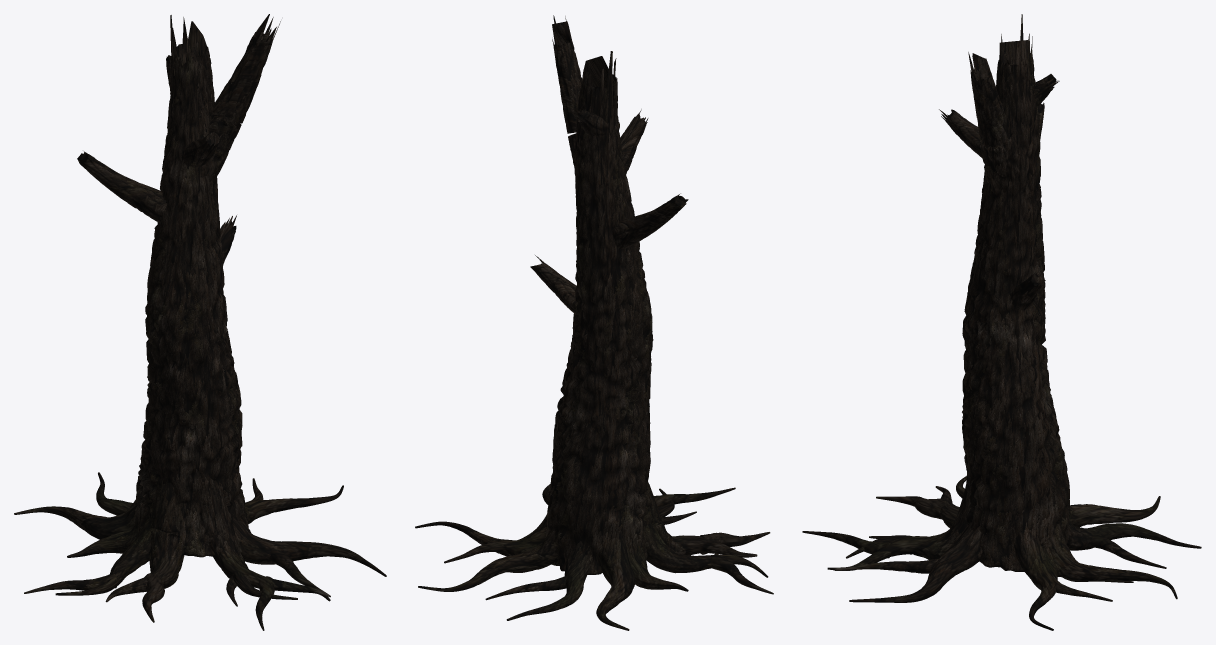
File: dead-snag-textured-v02.glb
The picture shows the model from 3 angles, left to right: view 1: azimuth 30°, elevation 25°; view 2: azimuth 150°, elevation 25°; view 3: azimuth 270°, elevation 25°; orthographic projection. The views are drawn at different scales.
Visible parts, largest first — view 1: Dead snag | broken trunk, splintered top, limb stubs; view 2: Dead snag | broken trunk, splintered top, limb stubs; view 3: Dead snag | broken trunk, splintered top, limb stubs.
Boxes of the visible parts, <box> form: Dead snag | broken trunk, splintered top, limb stubs: <box>14,14,386,630</box>; Dead snag | broken trunk, splintered top, limb stubs: <box>415,15,773,630</box>; Dead snag | broken trunk, splintered top, limb stubs: <box>802,14,1201,630</box>.
Bounding box in the file's own units: 4.06 × 6.08 × 4.09.
1 material, 1 textured.
